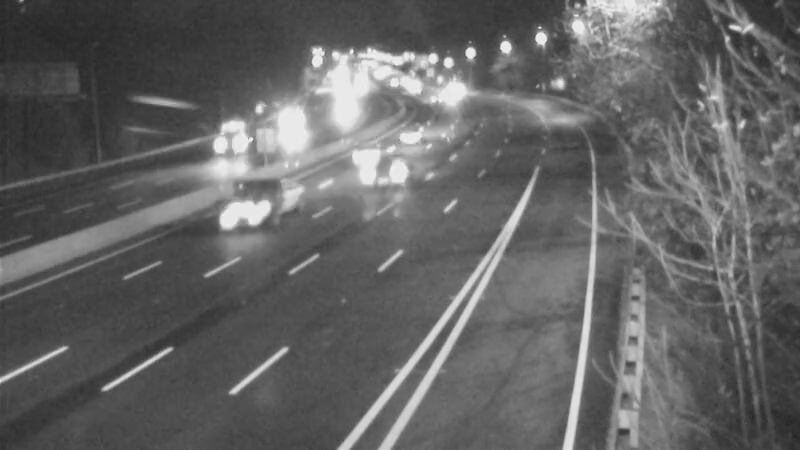vehicle: (325, 112, 405, 192), (350, 129, 430, 209), (215, 170, 295, 250), (430, 65, 480, 115), (420, 73, 470, 123), (388, 109, 438, 159), (205, 113, 255, 163), (270, 96, 320, 146)
